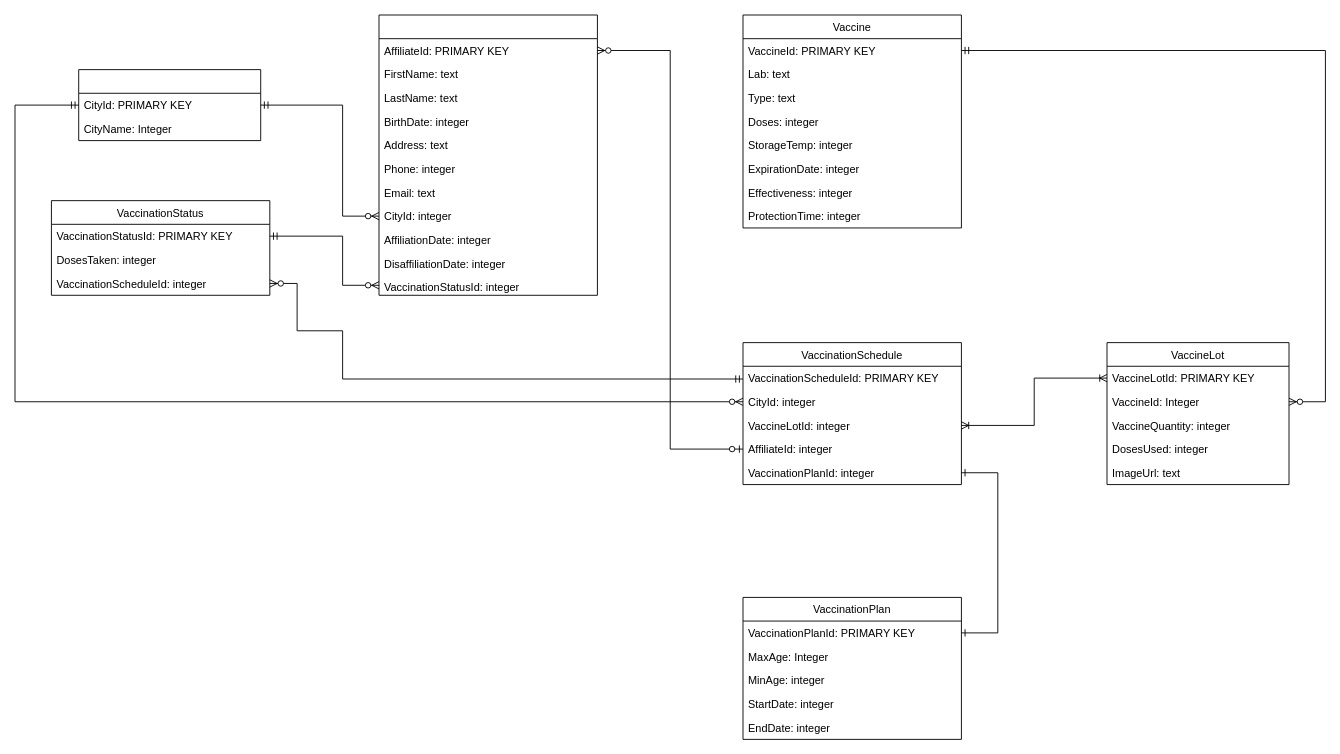
This 1340x754 diagram has some shape labels left out. The shapes that lost their labels are listed below. From the top down, each one's box as (x1, y1, x2, y2) in pixels, then its label:
(78, 69, 261, 141): Cities
(378, 14, 597, 295): Affiliates
